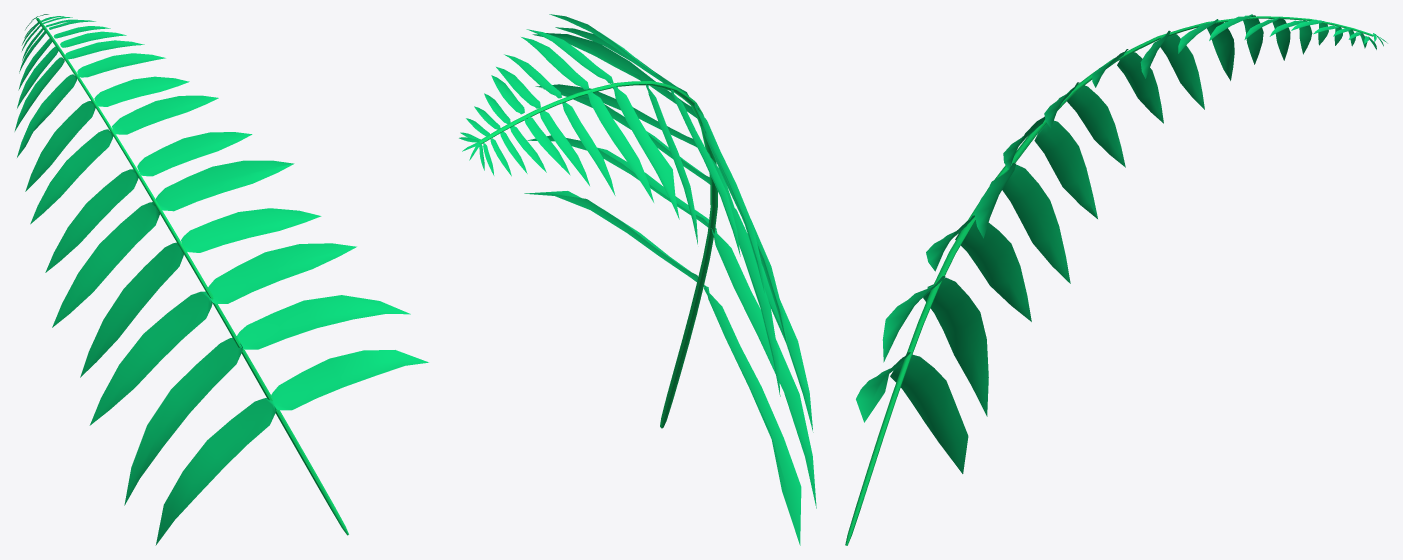
The picture shows the model from 3 angles, left to right: view 1: azimuth 30°, elevation 25°; view 2: azimuth 150°, elevation 25°; view 3: azimuth 270°, elevation 25°; orthographic projection. The views are drawn at different scales.
Parts seen in each view (by area): view 1: sida; view 2: sida; view 3: sida.
Boxes of the visible parts, x1,y1,x2,y2 form: sida: (14,14,428,545); sida: (459,14,816,545); sida: (845,14,1387,545).
Bounding box in the file's own units: 11.52 × 15.96 × 16.03.
